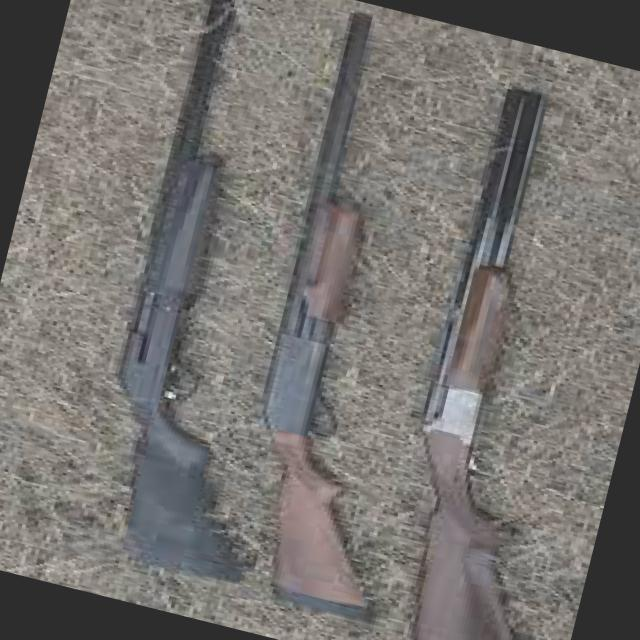long weapon: (61, 0, 301, 607), (395, 51, 640, 640), (261, 7, 427, 640)
